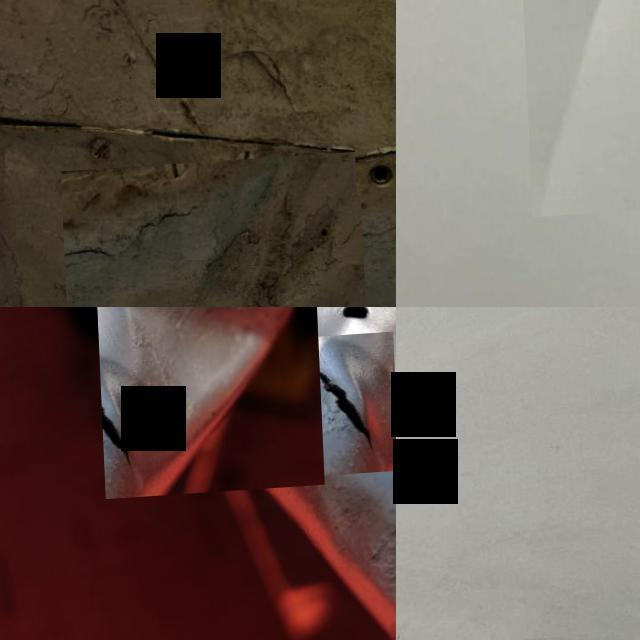Crack: (263, 338, 395, 483)
Dent: (59, 157, 367, 307), (91, 307, 320, 501), (528, 0, 617, 220)
Missing_Fastener: (352, 151, 396, 208)
